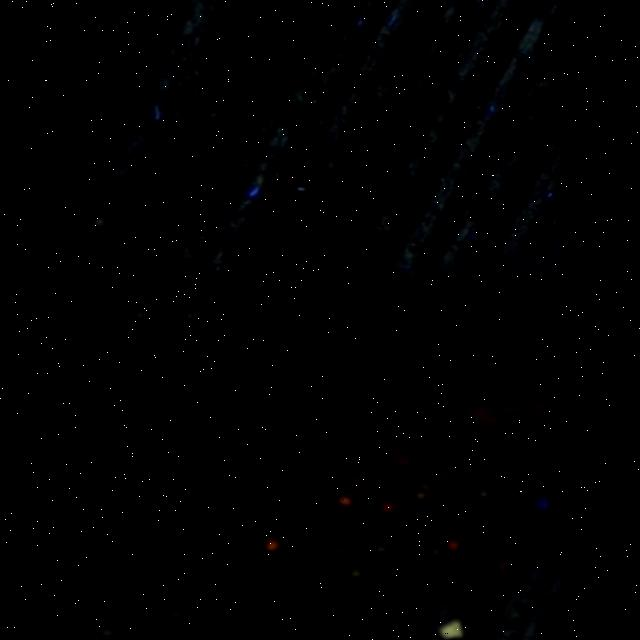microbeads: (436, 620, 466, 638)
